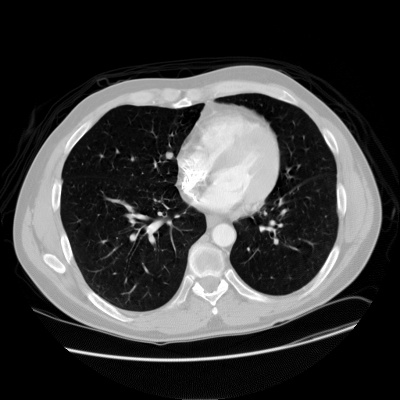PN: (164, 151, 172, 159)
